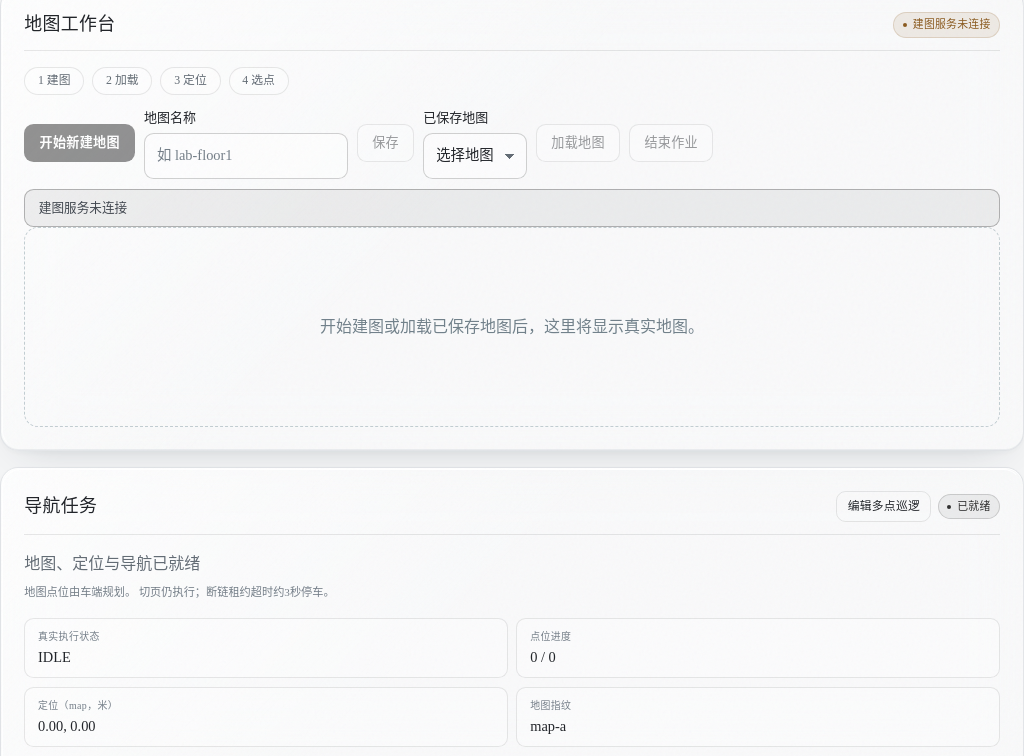
Test case: autonomous navigation page › leaves the backend-owned mission running when switching to the camera or losing focus
Click the button "编辑多点巡逻" at (884, 506), box [836, 491, 932, 522]
(page scrolled)
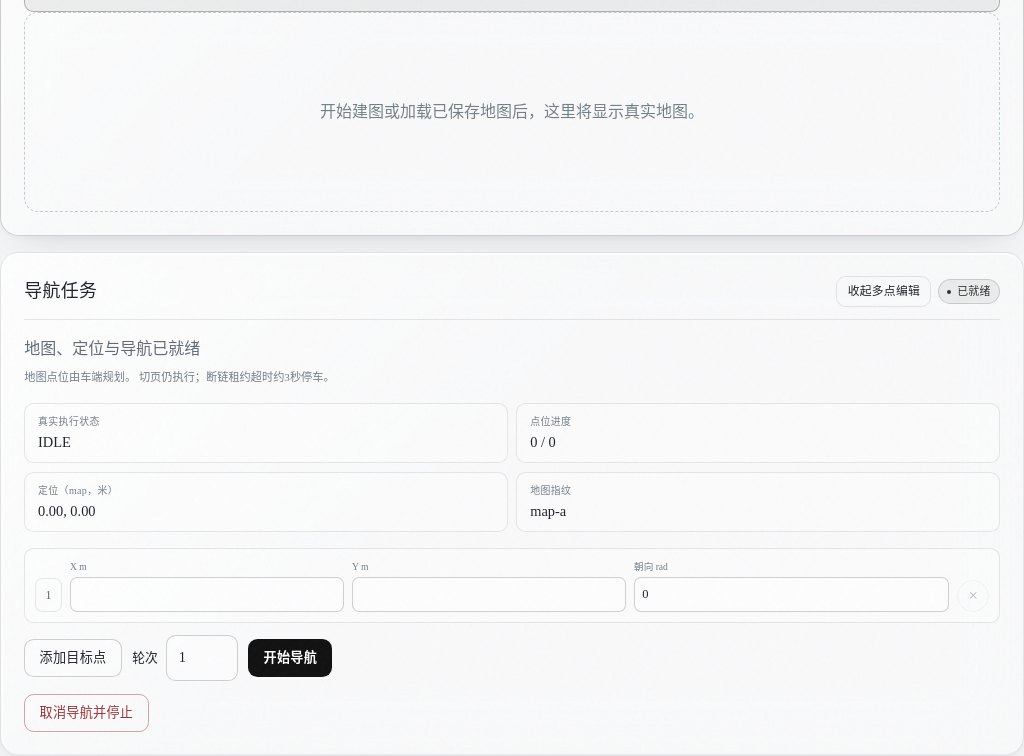
Type "1" into the number field named "目标点1 x" at (207, 595), box [70, 577, 344, 612]
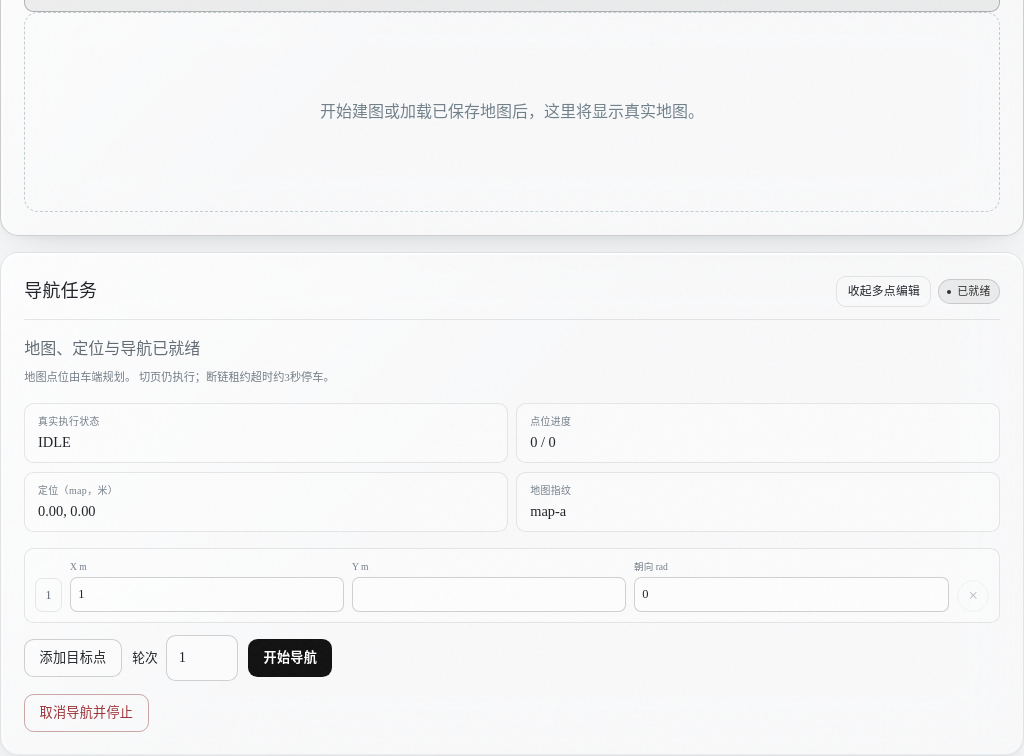
Type "2" into the number field named "目标点1 y" at (489, 595), box [352, 577, 626, 612]
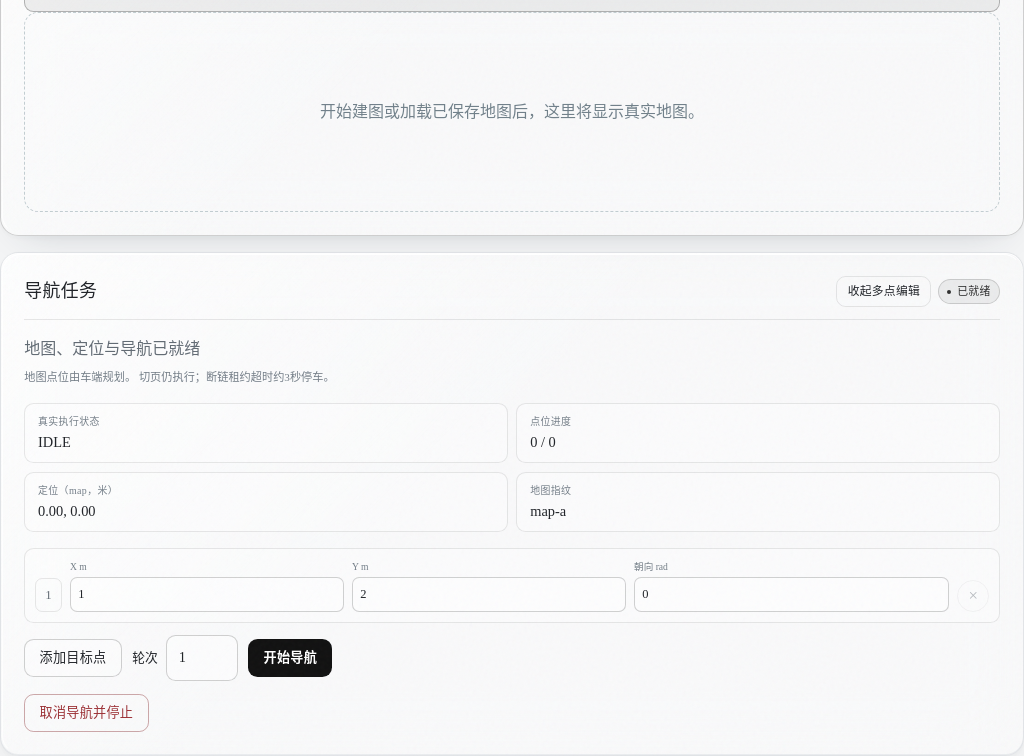
Click the button "开始导航" at (290, 658), box [248, 639, 332, 677]
Wait 6000 ms
(page scrolled)
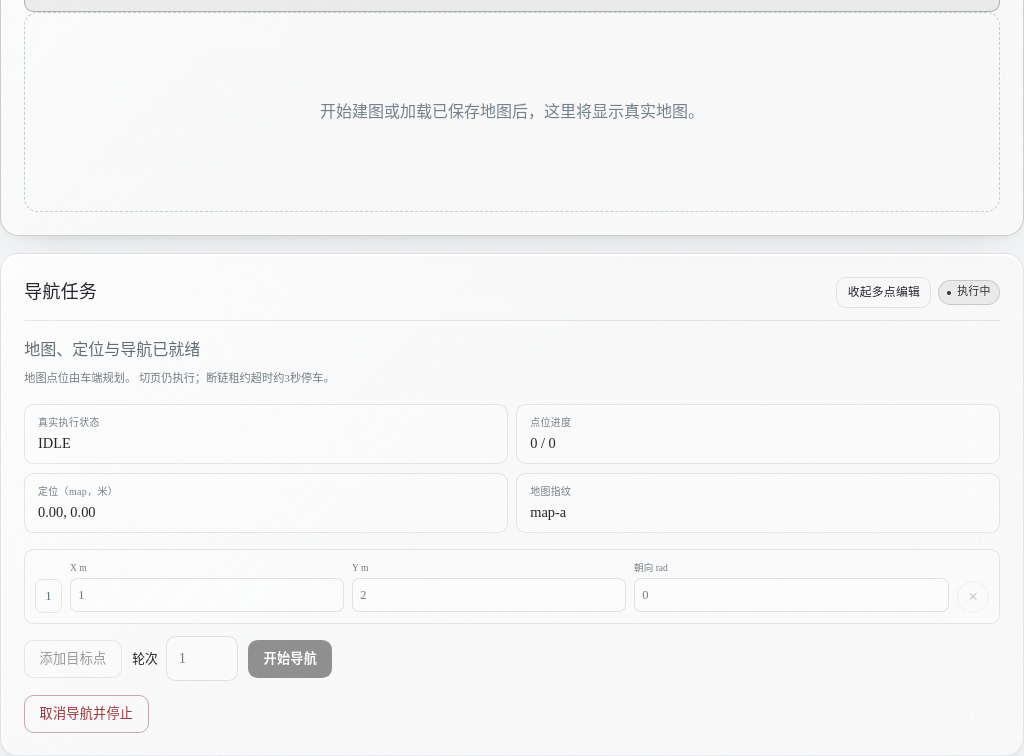
Check: the button "开始导航" is disabled, box [248, 640, 332, 678]
